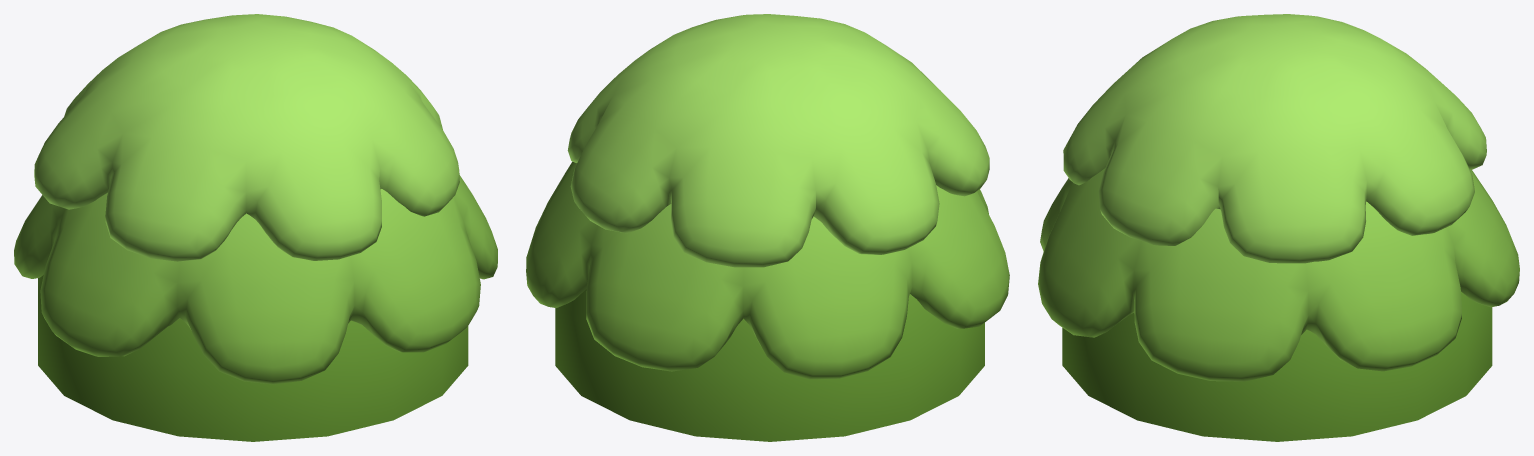
File: bush_2.fbx
3 renders of one model, left to right at view 1: azimuth 30°, elevation 25°; view 2: azimuth 150°, elevation 25°; view 3: azimuth 270°, elevation 25°, orthographic.
Visible parts, largest first — view 1: bush_2; view 2: bush_2; view 3: bush_2.
Part boxes in pixels (x1,y1,x2,y2): bush_2: [14, 14, 497, 441]; bush_2: [526, 14, 1009, 441]; bush_2: [1038, 14, 1519, 441].
Size of the model in its own units: 77.22 by 54.74 by 76.75.
Materials: 1 (1 with a texture image).
